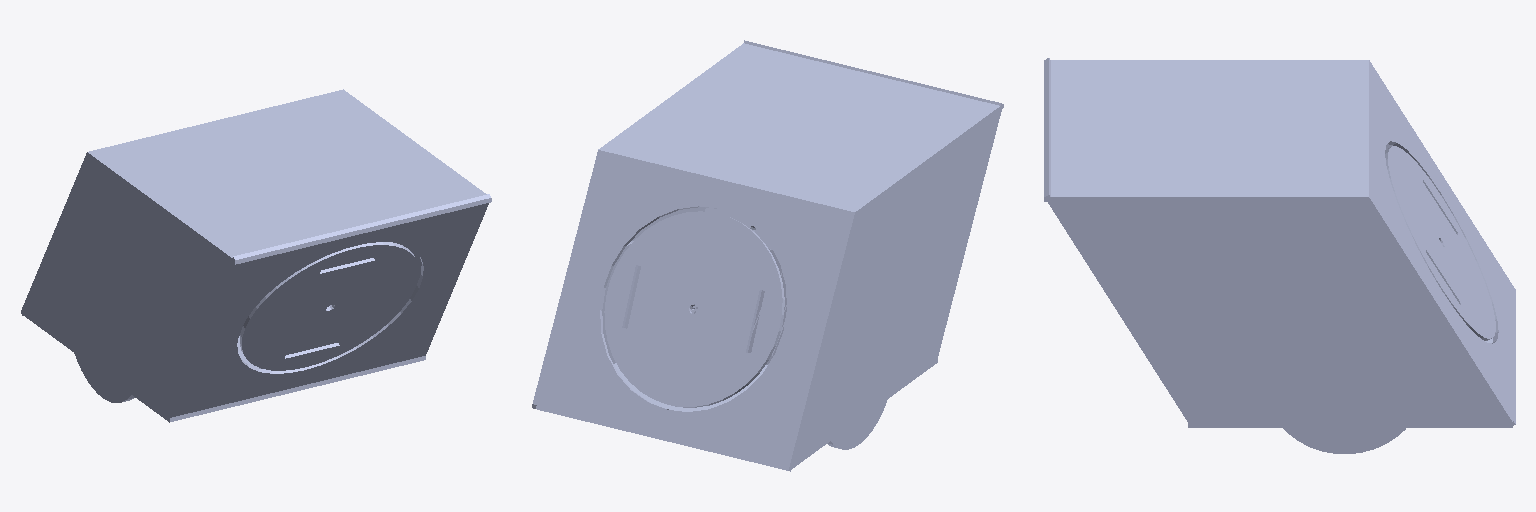
The robot description file, URDF, robot "assembled":
<?xml version="1.0" encoding="utf-8"?>
<!-- This URDF was automatically created by SolidWorks to URDF Exporter! Originally created by [author] ([email redacted]) 
     Commit Version: 1.6.0-1-g15f4949  Build Version: 1.6.7594.29634
     For more information, please see http://wiki.ros.org/sw_urdf_exporter -->
<robot
  name="assembled">
  <link
    name="base_link">
    <inertial>
      <origin
        xyz="0.0238549643811552 -0.0687402008780061 0.0509934507184343"
        rpy="0 0 0" />
      <mass
        value="0.0158442666258974" />
      <inertia
        ixx="8.64186137417576E-06"
        ixy="2.93045621438576E-10"
        ixz="-1.3990652681983E-10"
        iyy="1.14111044288373E-05"
        iyz="1.40453418487302E-06"
        izz="1.38941125169339E-05" />
    </inertial>
    <visual>
      <origin
        xyz="0 0 0"
        rpy="0 0 0" />
      <geometry>
        <mesh
          filename="package://assembled/meshes/base_link.STL" />
      </geometry>
      <material
        name="">
        <color
          rgba="0.792156862745098 0.819607843137255 0.933333333333333 1" />
      </material>
    </visual>
    <collision>
      <origin
        xyz="0 0 0"
        rpy="0 0 0" />
      <geometry>
        <mesh
          filename="package://assembled/meshes/base_link.STL" />
      </geometry>
    </collision>
  </link>
  <link
    name="Servo1">
    <inertial>
      <origin
        xyz="0.00498028326335194 -3.52397354019054E-05 0.00976351523861422"
        rpy="0 0 0" />
      <mass
        value="0.00677100561965019" />
      <inertia
        ixx="4.31149660500128E-07"
        ixy="8.8222833654665E-11"
        ixz="-3.10904675105349E-08"
        iyy="6.71938555004069E-07"
        iyz="1.06334246644925E-09"
        izz="3.91967419165482E-07" />
    </inertial>
    <visual>
      <origin
        xyz="0 0 0"
        rpy="0 0 0" />
      <geometry>
        <mesh
          filename="package://assembled/meshes/Servo1.STL" />
      </geometry>
      <material
        name="">
        <color
          rgba="0.792156862745098 0.819607843137255 0.933333333333333 1" />
      </material>
    </visual>
    <collision>
      <origin
        xyz="0 0 0"
        rpy="0 0 0" />
      <geometry>
        <mesh
          filename="package://assembled/meshes/Servo1.STL" />
      </geometry>
    </collision>
  </link>
  <joint
    name="Servo1"
    type="continuous">
    <origin
      xyz="0.0238555018573711 -0.0454528518302611 0.0462255832648354"
      rpy="-2.92344819487844 -1.03312497959637 -1.82337173201453" />
    <parent
      link="base_link" />
    <child
      link="Servo1" />
    <axis
      xyz="0 0 1" />
  </joint>
  <link
    name="DockingPlate1">
    <inertial>
      <origin
        xyz="1.38777878078145E-17 -1.04083408558608E-17 -0.00797500625000004"
        rpy="0 0 0" />
      <mass
        value="0.00122139767518029" />
      <inertia
        ixx="1.19200352550562E-07"
        ixy="3.41212002678124E-24"
        ixz="-4.63221143029695E-23"
        iyy="1.25310058948455E-07"
        iyz="-4.32201870058957E-23"
        izz="2.4430684521982E-07" />
    </inertial>
    <visual>
      <origin
        xyz="0 0 0"
        rpy="0 0 0" />
      <geometry>
        <mesh
          filename="package://assembled/meshes/DockingPlate1.STL" />
      </geometry>
      <material
        name="">
        <color
          rgba="0.792156862745098 0.819607843137255 0.933333333333333 1" />
      </material>
    </visual>
    <collision>
      <origin
        xyz="0 0 0"
        rpy="0 0 0" />
      <geometry>
        <mesh
          filename="package://assembled/meshes/DockingPlate1.STL" />
      </geometry>
    </collision>
  </link>
  <joint
    name="Docker"
    type="continuous">
    <origin
      xyz="0 0 0"
      rpy="0 0 2.97583807838417" />
    <parent
      link="Servo1" />
    <child
      link="DockingPlate1" />
    <axis
      xyz="0 0 1" />
  </joint>
  <link
    name="Servo2">
    <inertial>
      <origin
        xyz="0.0049802831852009 -3.52396307270741E-05 -0.00518649714855853"
        rpy="0 0 0" />
      <mass
        value="0.00677100554095321" />
      <inertia
        ixx="4.31149651639776E-07"
        ixy="8.82223307448188E-11"
        ixz="-3.10904721063372E-08"
        iyy="6.71938546412863E-07"
        iyz="1.06334913720177E-09"
        izz="3.91967418044199E-07" />
    </inertial>
    <visual>
      <origin
        xyz="0 0 0"
        rpy="0 0 0" />
      <geometry>
        <mesh
          filename="package://assembled/meshes/Servo2.STL" />
      </geometry>
      <material
        name="">
        <color
          rgba="0.792156862745098 0.819607843137255 0.933333333333333 1" />
      </material>
    </visual>
    <collision>
      <origin
        xyz="0 0 0"
        rpy="0 0 0" />
      <geometry>
        <mesh
          filename="package://assembled/meshes/Servo2.STL" />
      </geometry>
    </collision>
  </link>
  <joint
    name="Servo2"
    type="continuous">
    <origin
      xyz="0.0238555018573711 -0.0779348729743754 0.0623630957648355"
      rpy="-1.04701686895547 -0.0250141124981463 -0.0144454198491116" />
    <parent
      link="base_link" />
    <child
      link="Servo2" />
    <axis
      xyz="0 0 1" />
  </joint>
  <link
    name="DockingPlate2">
    <inertial>
      <origin
        xyz="0 0 0.000250000000000021"
        rpy="0 0 0" />
      <mass
        value="0.00122139767518029" />
      <inertia
        ixx="1.19200352550563E-07"
        ixy="-1.75798640133397E-25"
        ixz="-1.02543784875983E-25"
        iyy="1.25310058948456E-07"
        iyz="-5.29395592033938E-23"
        izz="2.44306845219822E-07" />
    </inertial>
    <visual>
      <origin
        xyz="0 0 0"
        rpy="0 0 0" />
      <geometry>
        <mesh
          filename="package://assembled/meshes/DockingPlate2.STL" />
      </geometry>
      <material
        name="">
        <color
          rgba="0.792156862745098 0.819607843137255 0.933333333333333 1" />
      </material>
    </visual>
    <collision>
      <origin
        xyz="0 0 0"
        rpy="0 0 0" />
      <geometry>
        <mesh
          filename="package://assembled/meshes/DockingPlate2.STL" />
      </geometry>
    </collision>
  </link>
  <joint
    name="Docker2"
    type="continuous">
    <origin
      xyz="0 0 -0.02267501875"
      rpy="-3.14159265358979 0 0.0288848135569953" />
    <parent
      link="Servo2" />
    <child
      link="DockingPlate2" />
    <axis
      xyz="0 0 1" />
  </joint>
  <link
    name="Wheel1">
    <inertial>
      <origin
        xyz="-6.93889390390723E-18 0 0.00100000000000001"
        rpy="0 0 0" />
      <mass
        value="0.00140743350880823" />
      <inertia
        ixx="7.9989137750601E-08"
        ixy="1.19980782609563E-44"
        ixz="-3.95987936179367E-23"
        iyy="7.9989137750601E-08"
        iyz="-4.11615671294591E-41"
        izz="1.5903998649533E-07" />
    </inertial>
    <visual>
      <origin
        xyz="0 0 0"
        rpy="0 0 0" />
      <geometry>
        <mesh
          filename="package://assembled/meshes/Wheel1.STL" />
      </geometry>
      <material
        name="">
        <color
          rgba="0.792156862745098 0.819607843137255 0.933333333333333 1" />
      </material>
    </visual>
    <collision>
      <origin
        xyz="0 0 0"
        rpy="0 0 0" />
      <geometry>
        <mesh
          filename="package://assembled/meshes/Wheel1.STL" />
      </geometry>
    </collision>
  </link>
  <joint
    name="wheel1"
    type="fixed">
    <origin
      xyz="0.0505218271830018 -0.0560519890686226 0.0356478678368601"
      rpy="1.5707963267949 0 1.5707963267949" />
    <parent
      link="base_link" />
    <child
      link="Wheel1" />
    <axis
      xyz="0 0 0" />
  </joint>
  <link
    name="Wheel2">
    <inertial>
      <origin
        xyz="0 6.93889390390723E-18 0.001"
        rpy="0 0 0" />
      <mass
        value="0.00140743350880823" />
      <inertia
        ixx="7.9989137750601E-08"
        ixy="6.61744490042422E-24"
        ixz="3.41971218980057E-24"
        iyy="7.99891377506009E-08"
        iyz="-7.12973258412668E-24"
        izz="1.5903998649533E-07" />
    </inertial>
    <visual>
      <origin
        xyz="0 0 0"
        rpy="0 0 0" />
      <geometry>
        <mesh
          filename="package://assembled/meshes/Wheel2.STL" />
      </geometry>
      <material
        name="">
        <color
          rgba="0.792156862745098 0.819607843137255 0.933333333333333 1" />
      </material>
    </visual>
    <collision>
      <origin
        xyz="0 0 0"
        rpy="0 0 0" />
      <geometry>
        <mesh
          filename="package://assembled/meshes/Wheel2.STL" />
      </geometry>
    </collision>
  </link>
  <joint
    name="wheel2"
    type="fixed">
    <origin
      xyz="-0.00281082346825967 -0.0554988150154021 0.0349160009815279"
      rpy="1.5707963267949 -0.816243207117493 -1.5707963267949" />
    <parent
      link="base_link" />
    <child
      link="Wheel2" />
    <axis
      xyz="0 0 0" />
  </joint>
</robot>

--- Render facts (derived) ---
3 views of the same robot in one strip: view 1: azimuth 30°, elevation 25°; view 2: azimuth 150°, elevation 25°; view 3: azimuth 270°, elevation 25° (orthographic).
Robot: assembled — 7 links, 6 joints (4 continuous, 2 fixed); root link base_link; default pose: every joint at zero.
Visible links, largest first — view 1: base_link, DockingPlate2, Wheel2; view 2: base_link, DockingPlate1, Wheel2, Servo1; view 3: base_link, DockingPlate1, Wheel1.
Boxes of the visible links, x1,y1,x2,y2 form: base_link: (21,89,491,422); DockingPlate2: (240,242,418,370); Wheel2: (74,353,134,402); base_link: (532,40,1003,471); DockingPlate1: (604,211,784,407); Wheel2: (827,399,887,449); Servo1: (691,214,786,364); base_link: (1044,58,1515,427); DockingPlate1: (1385,146,1495,340); Wheel1: (1283,428,1405,453).
Bounding box of the posed robot: 0.06 × 0.087 × 0.0542 m (x, y, z).
Meshes: 7 distinct files referenced, 7 mesh visuals loaded (7 binary STL).